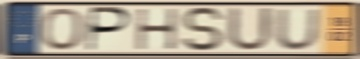H: (134, 7, 180, 52)
O: (39, 6, 87, 52)
P: (84, 5, 134, 53)
S: (180, 6, 228, 54)
U: (225, 5, 276, 54), (273, 7, 321, 52)
